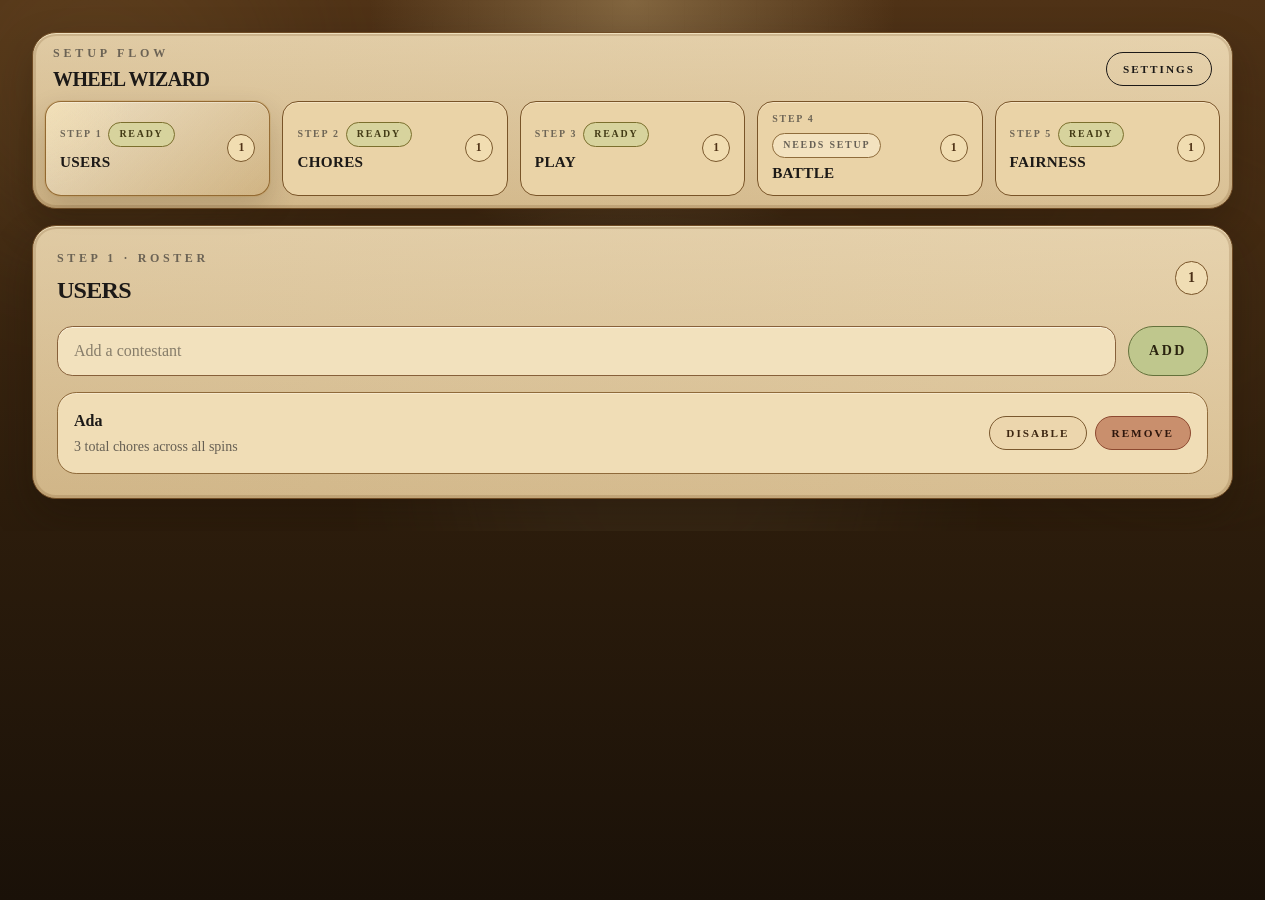
App complete reset confirmation › does not reset stored state when confirmation is canceled
Click the button "Settings": [1159, 69] box [1106,52,1212,86]
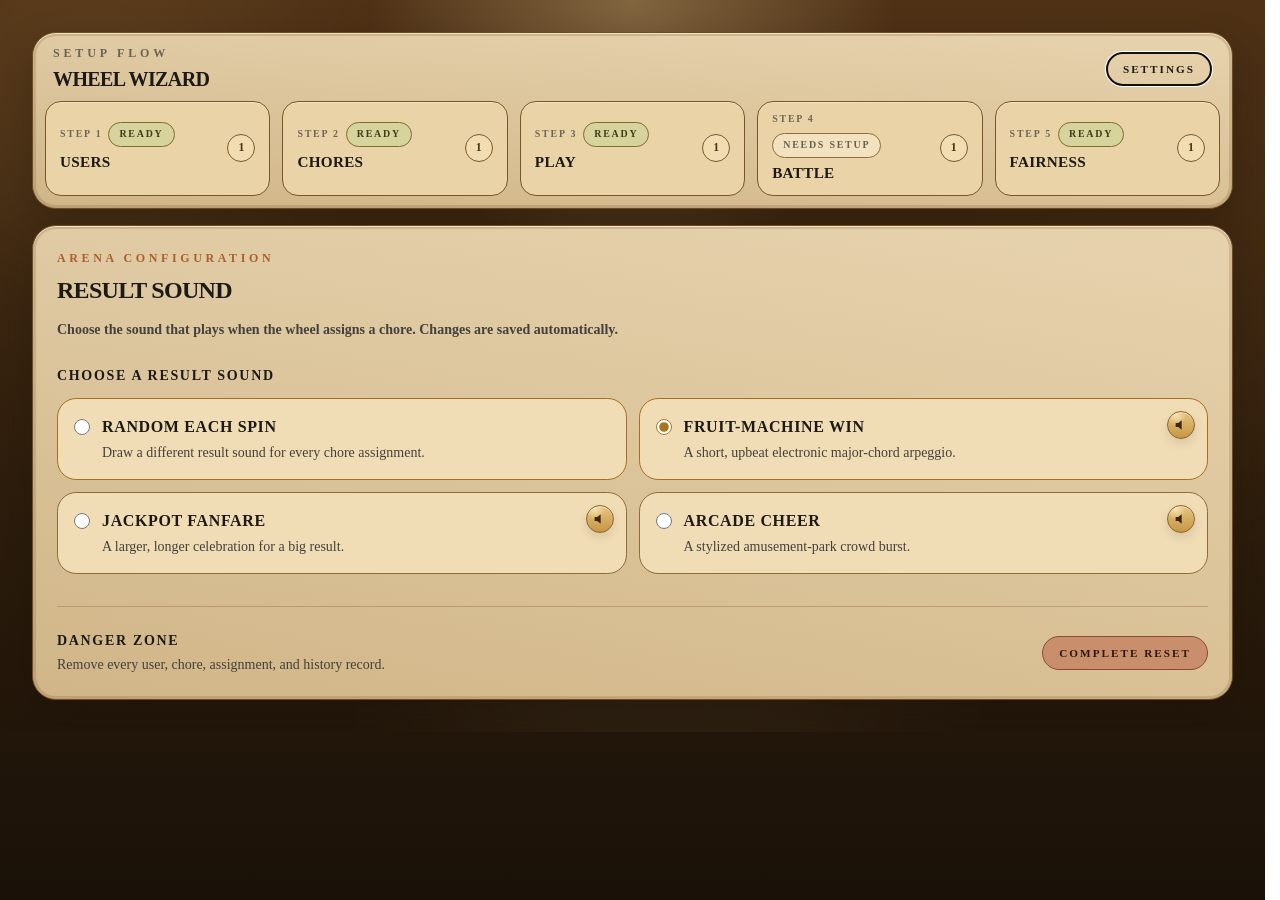
Click the button "Complete reset": [1125, 652] box [1042,636,1208,670]
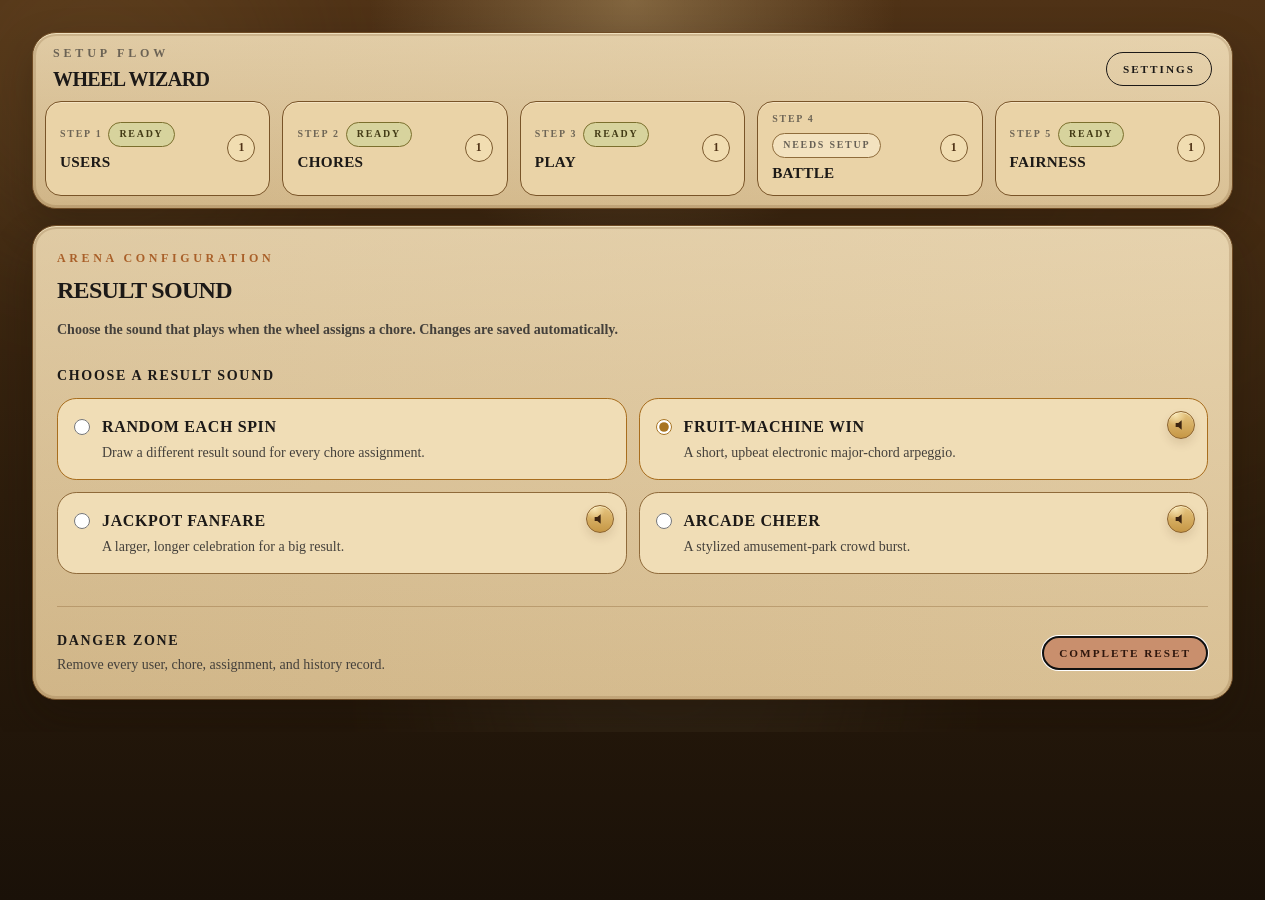
Click the button "Step 1 Ready Users 1": [158, 148] box [45,101,270,196]
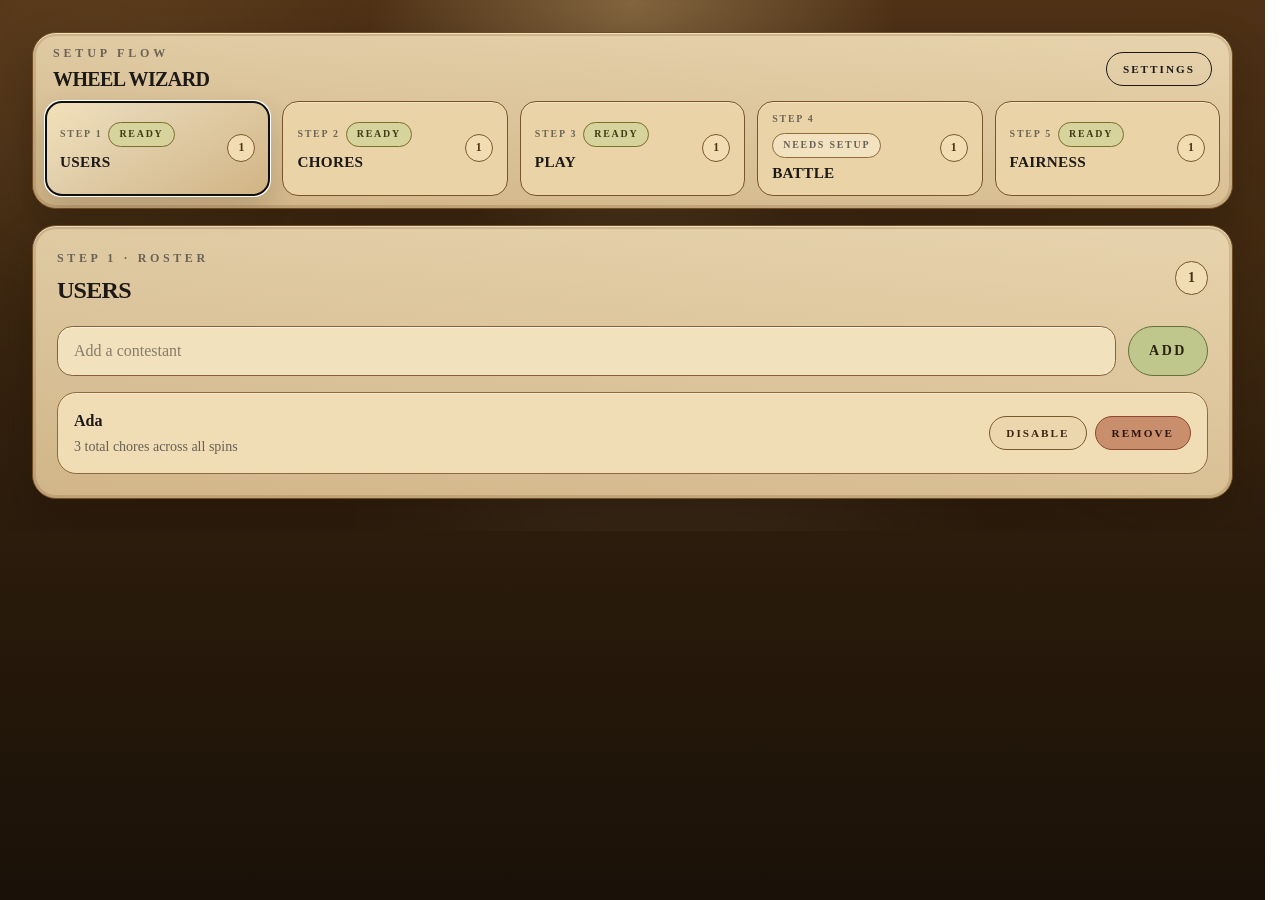
expect the text "Ada" is shown: met, box [74,412,102,428]
